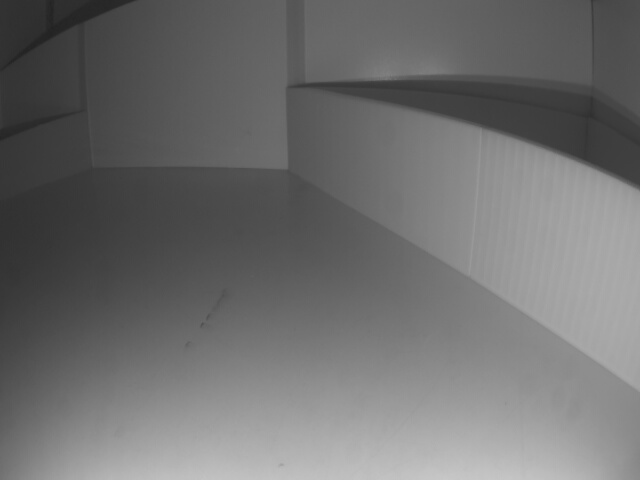Point: (284, 88, 640, 392), (0, 112, 86, 207)
